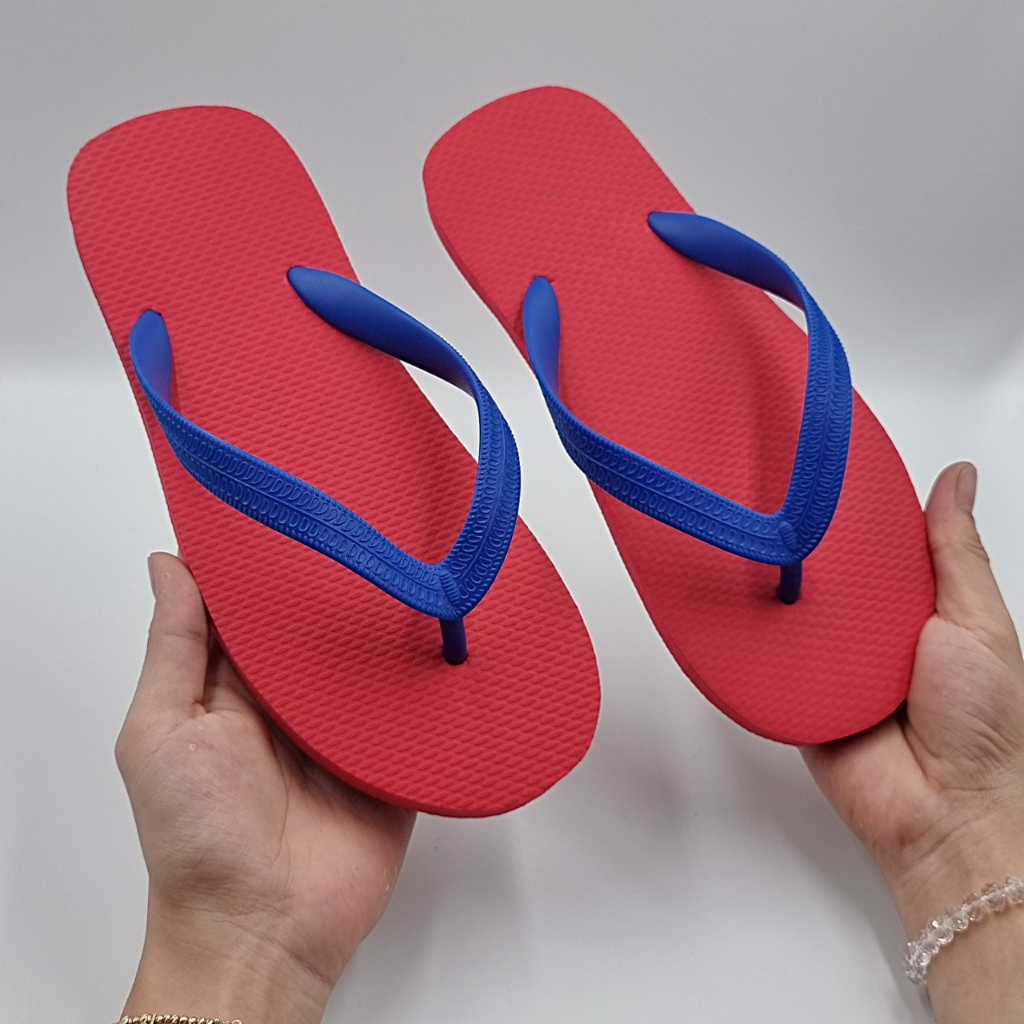flip_flops: (67, 103, 601, 820), (421, 83, 938, 749)
